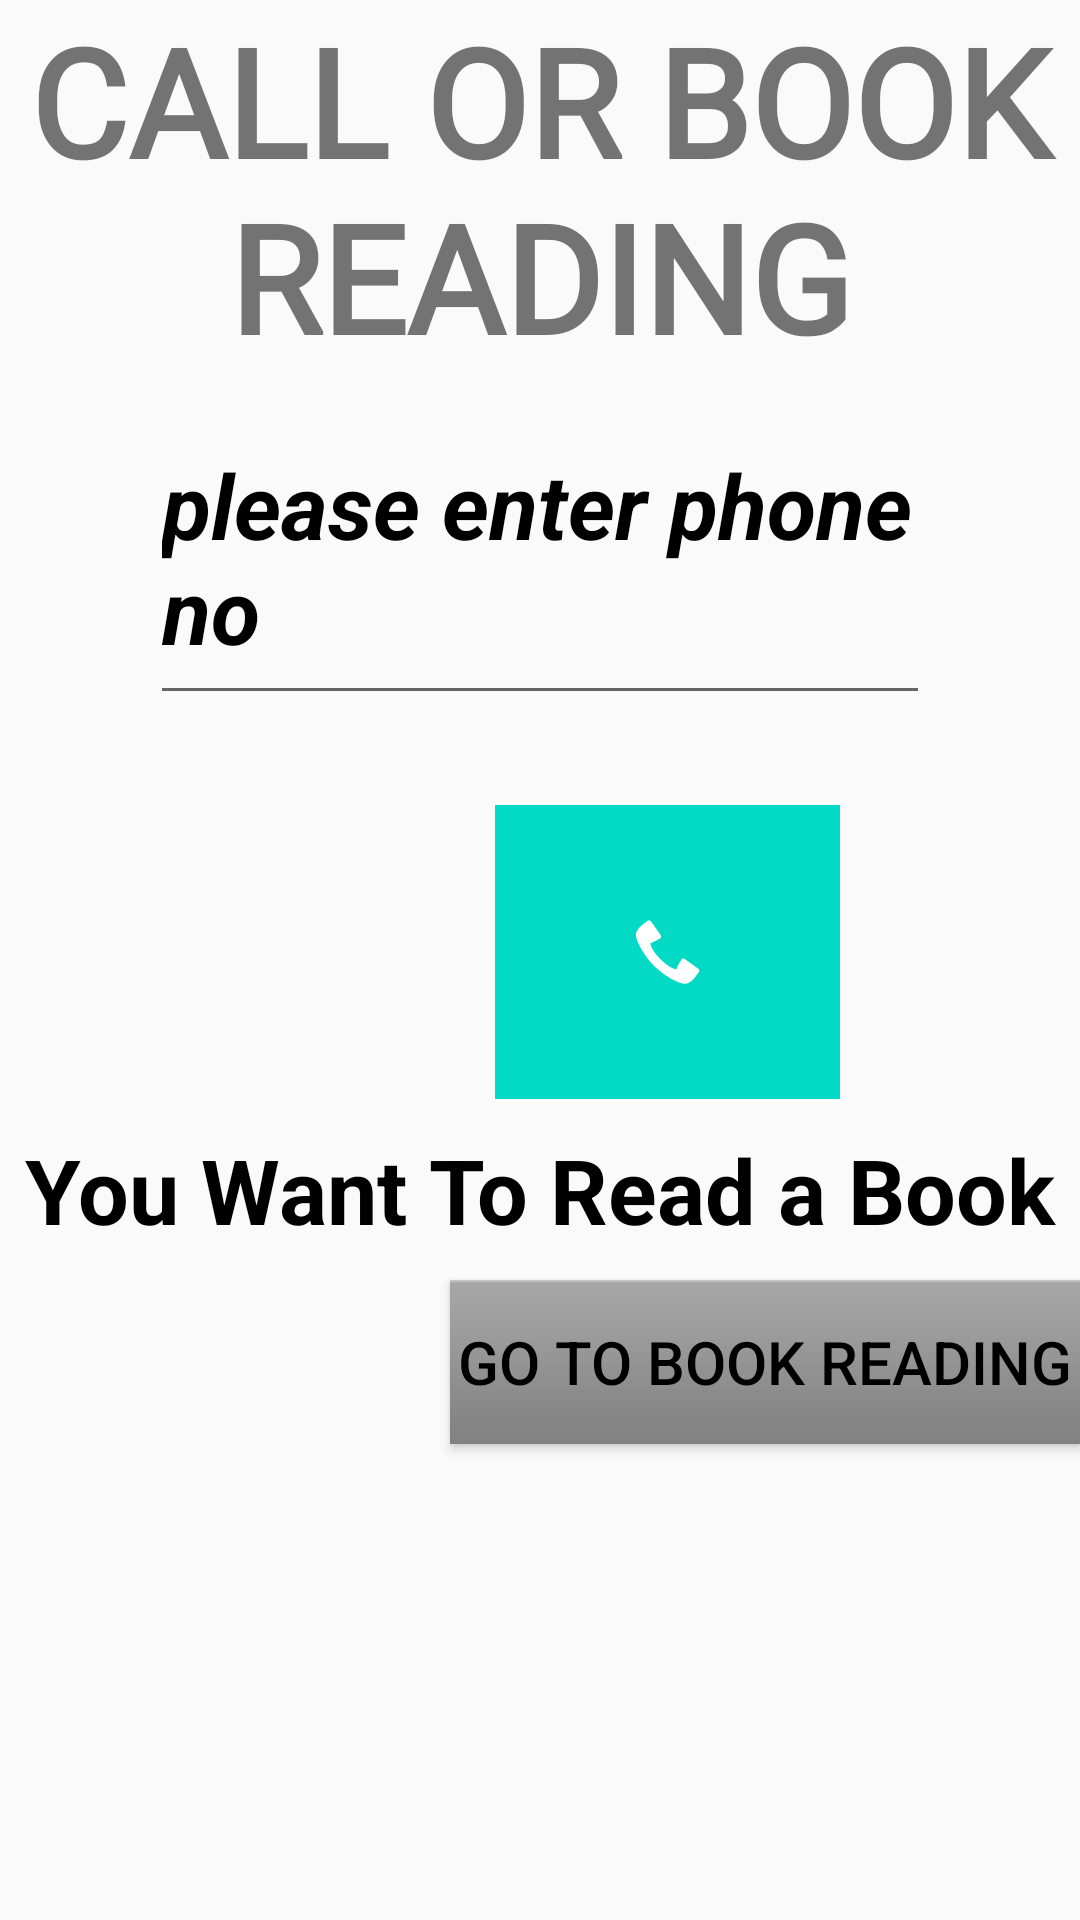

Point at icon controls on the screen. Image size 1080*1920, points as point (x, y).
phone call: point (667, 952)
